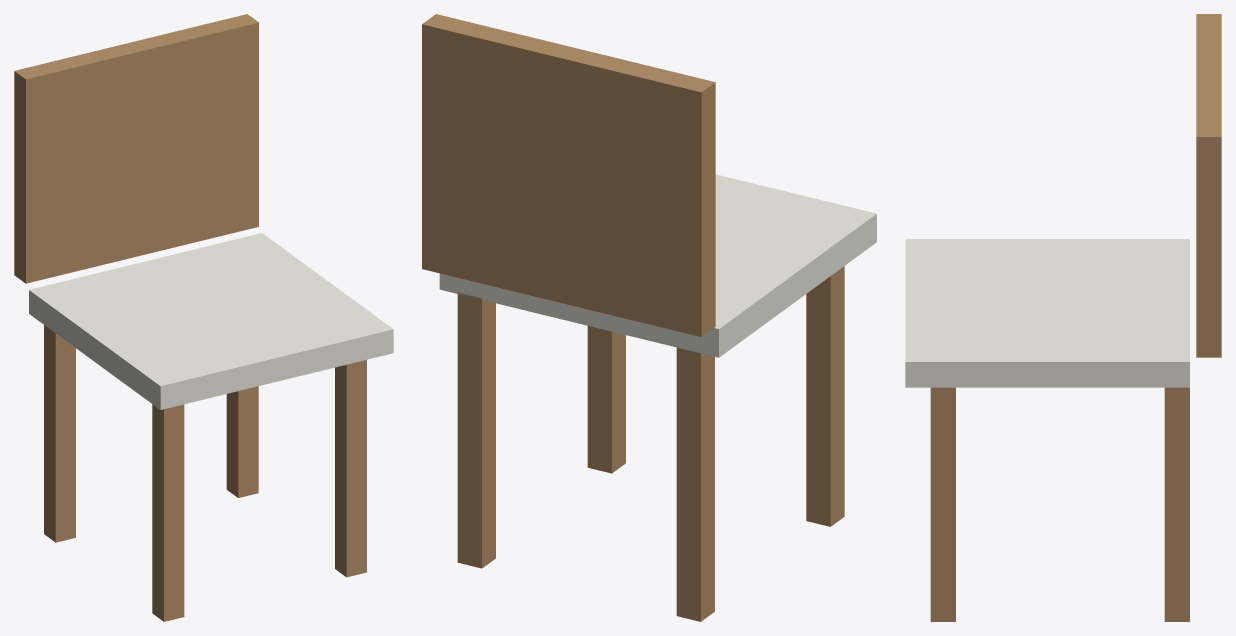
3 views of the same model, side by side, from view 1: azimuth 30°, elevation 25°; view 2: azimuth 150°, elevation 25°; view 3: azimuth 270°, elevation 25° (orthographic). The views are drawn at different scales.
Parts seen in each view (by area): view 1: Backrest, Seat, Leg_0_0, Leg_1_0, Leg_0_1, Leg_1_1; view 2: Backrest, Seat, Leg_1_1, Leg_0_1, Leg_0_0, Leg_1_0; view 3: Seat, Backrest, Leg_1_0, Leg_1_1.
Part boxes in pixels (box(x1,y1,x2,y2)): Backrest: box(14, 14, 258, 283); Seat: box(29, 233, 393, 409); Leg_0_0: box(152, 404, 184, 621); Leg_1_0: box(335, 360, 366, 577); Leg_0_1: box(44, 325, 75, 542); Leg_1_1: box(226, 386, 258, 497); Backrest: box(422, 14, 715, 337); Seat: box(439, 174, 876, 357); Leg_1_1: box(457, 292, 495, 568); Leg_0_1: box(676, 347, 714, 621); Leg_0_0: box(806, 266, 844, 526); Leg_1_0: box(587, 326, 625, 473); Seat: box(905, 239, 1189, 387); Backrest: box(1196, 14, 1221, 357); Leg_1_0: box(930, 387, 955, 621); Leg_1_1: box(1164, 387, 1189, 621).
Bounding box in the file's own units: 0.46 × 0.86 × 0.5.
